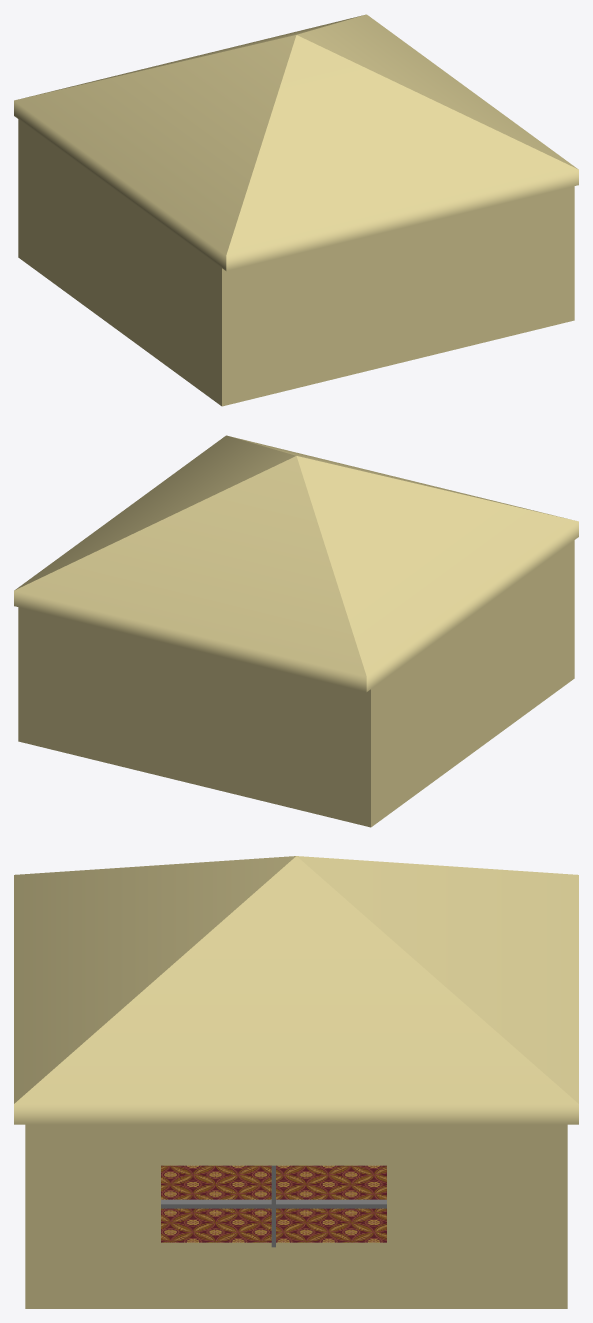
Rendered from house2.fbx.
3 views of the same model, one above another, from view 1: azimuth 30°, elevation 25°; view 2: azimuth 150°, elevation 25°; view 3: azimuth 270°, elevation 25° (orthographic). The views are drawn at different scales.
Visible parts, largest first — view 1: polySurface4; view 2: polySurface4; view 3: polySurface4.
Boxes of the visible parts, x1,y1,x2,y2 form: polySurface4: (14,14,578,406); polySurface4: (14,435,578,827); polySurface4: (14,856,578,1308).
Bounding box in the file's own units: 24 × 16.5 × 25.
3 materials, 1 textured.
